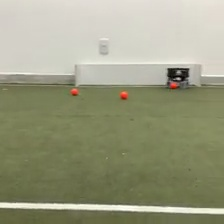ball: (69, 86, 79, 95), (119, 90, 128, 99), (170, 79, 178, 89)
goal: (73, 61, 203, 89)
robot: (165, 66, 191, 88)
